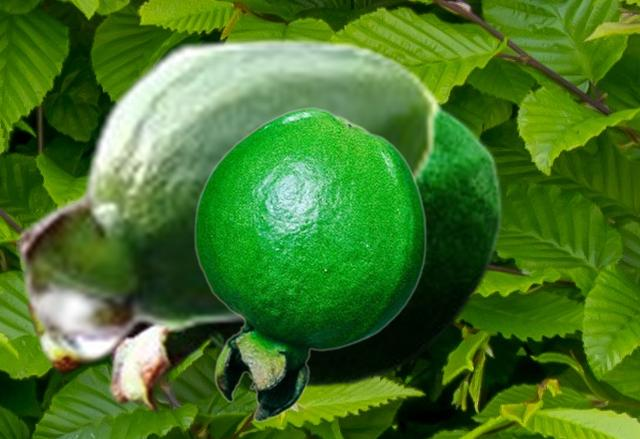guava: (26, 104, 503, 413), (16, 35, 441, 362), (193, 107, 426, 421)
